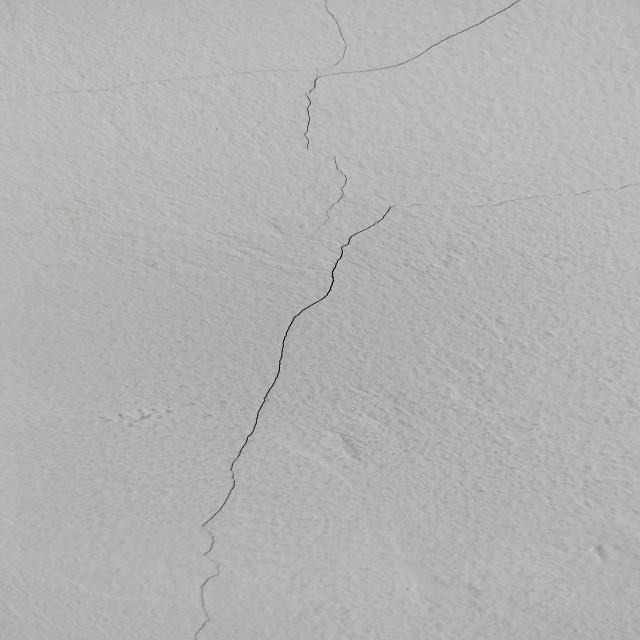Crack: (182, 2, 525, 640)
